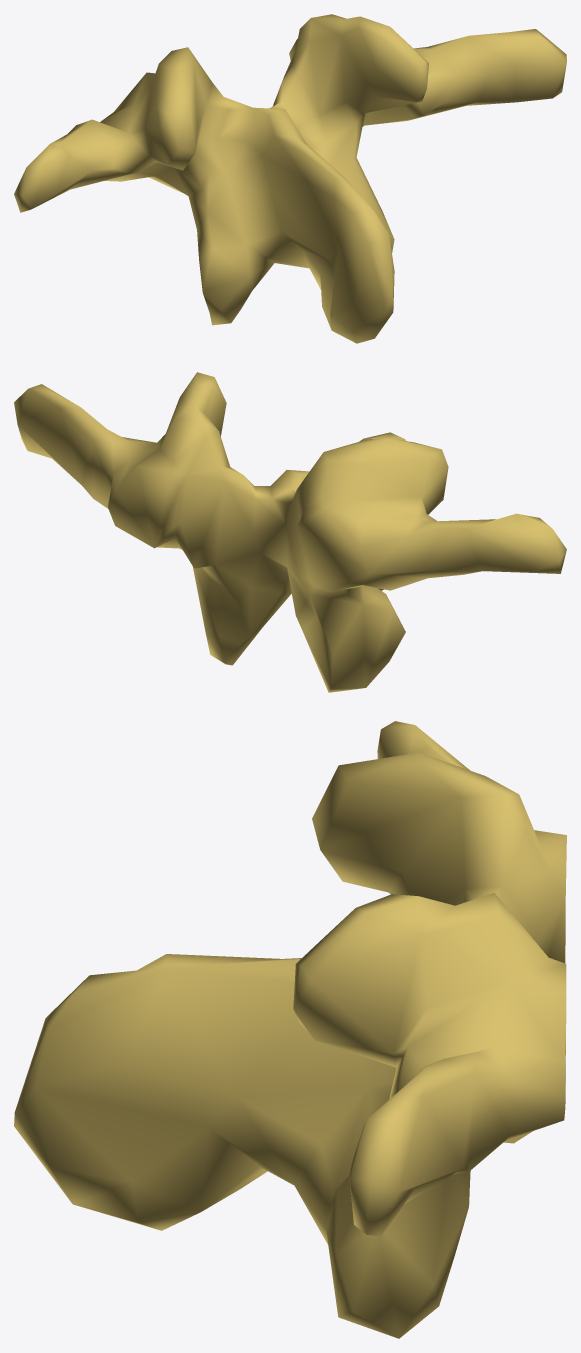
3 views of the same model, one above another, from view 1: azimuth 30°, elevation 25°; view 2: azimuth 150°, elevation 25°; view 3: azimuth 270°, elevation 25° (orthographic). The views are drawn at different scales.
Visible parts, largest first — view 1: L3vertebra; view 2: L3vertebra; view 3: L3vertebra.
Boxes of the visible parts, <box> form: L3vertebra: <box>14,14,566,343</box>; L3vertebra: <box>14,372,566,692</box>; L3vertebra: <box>14,721,566,1338</box>.
Bounding box in the file's own units: 10.83 × 5.18 × 5.66.
